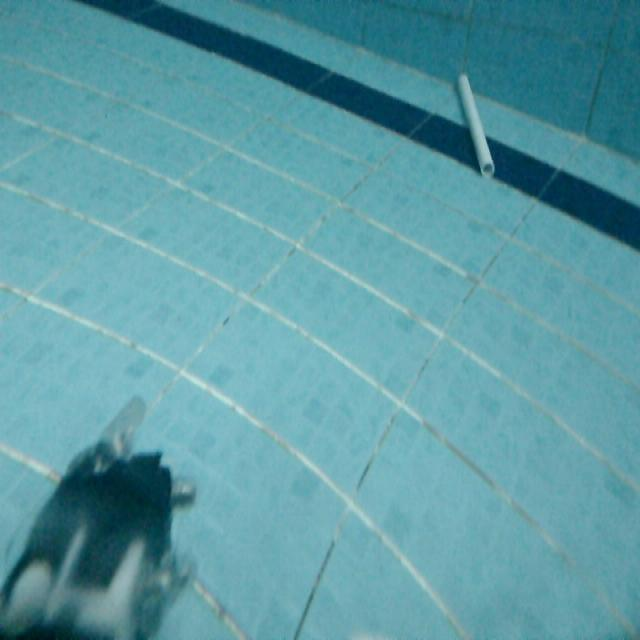Cube: (454, 67, 497, 180)
